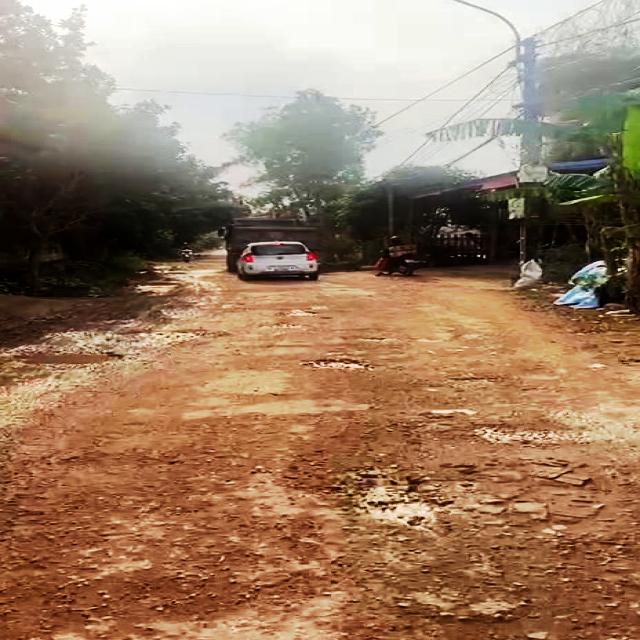pothole: (324, 466, 450, 541), (462, 422, 603, 449), (9, 349, 126, 364), (304, 358, 382, 373)
